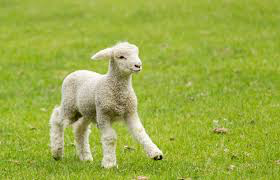koyun: (48, 40, 165, 167)
